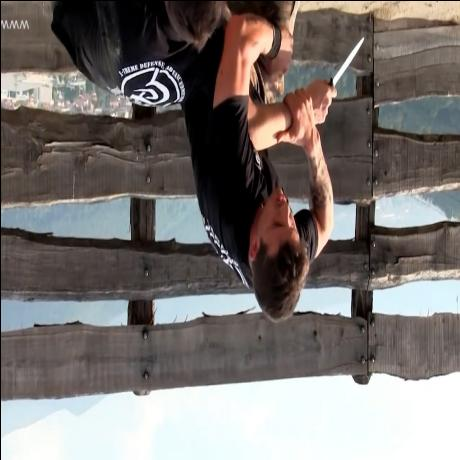1: (195, 4, 332, 316)
weapon: (317, 35, 363, 114)
